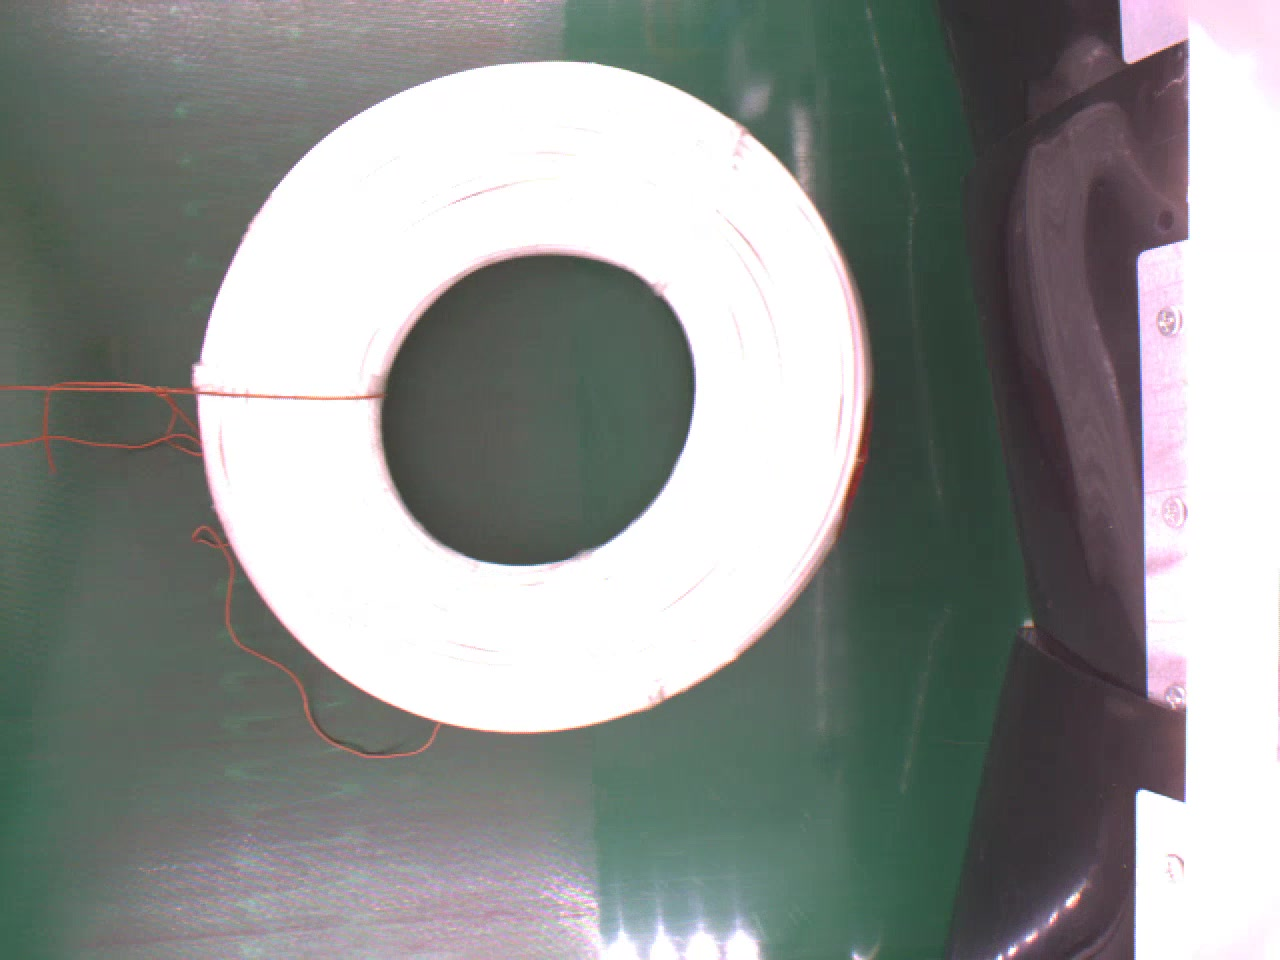white: (195, 58, 876, 722)
